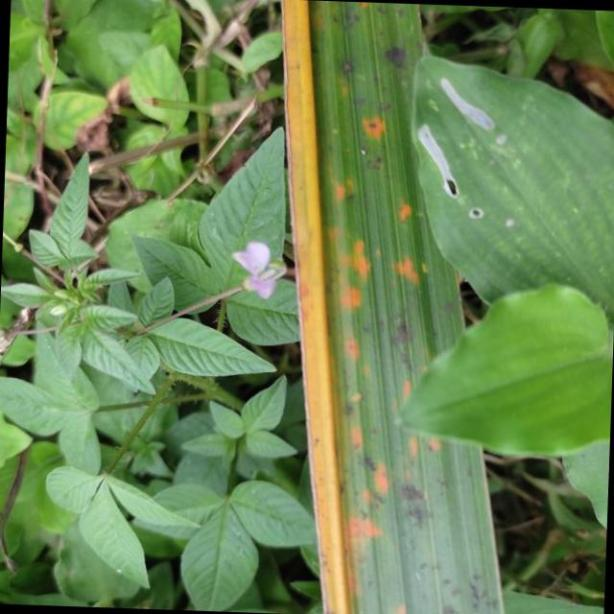Megnesium: (278, 0, 502, 614)
